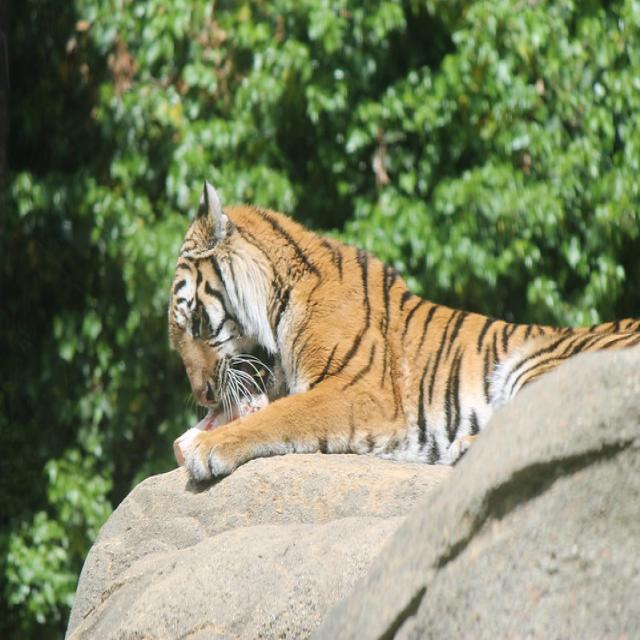Tiger: (162, 172, 638, 480)
